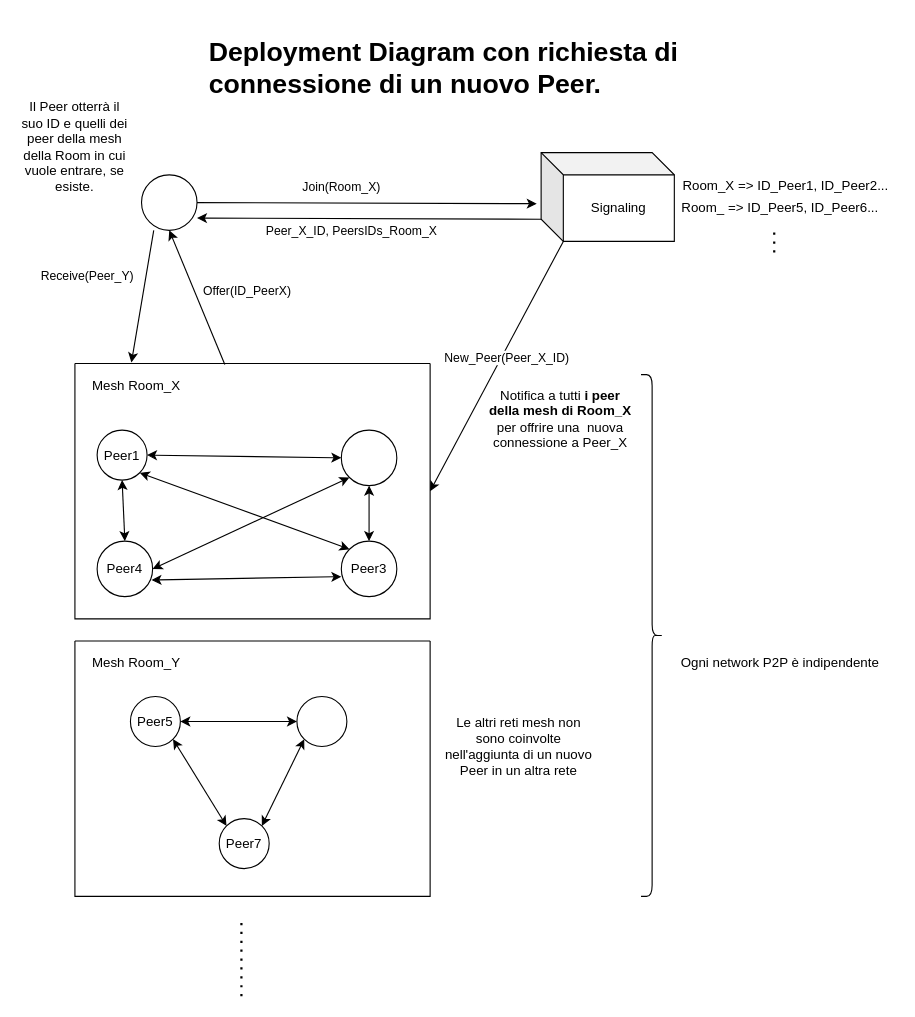
Some shapes in this 915 by 1017 pixel diagram are drawn without their labels. Here are the shapes that lost their labels. From the top down, the centre of each, then its label:
At [168,202]: "Peer_X".
At [368,457]: "Peer2".
At [321,720]: "Peer6".
